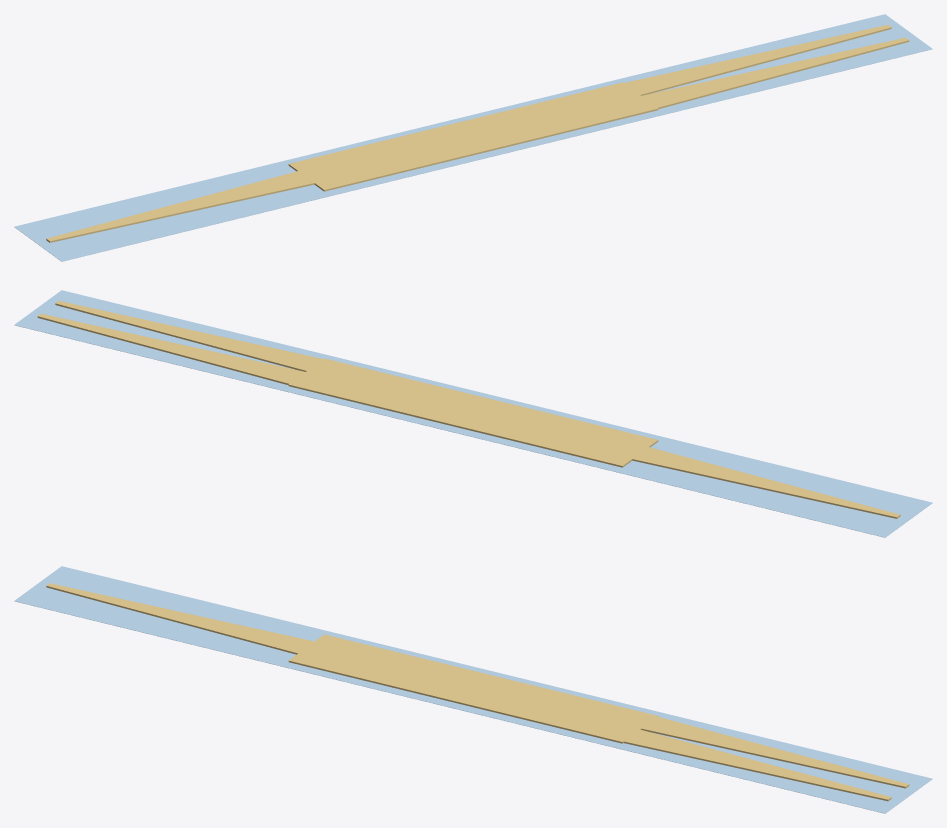
Rendered from cs-sin300-mmi1x2.glb.
3 renders of one model, top to bottom at view 1: azimuth 30°, elevation 25°; view 2: azimuth 150°, elevation 25°; view 3: azimuth 330°, elevation 25°, orthographic.
Parts seen in each view (by area): view 1: nitride_0, box_top; view 2: nitride_0, box_top; view 3: nitride_0, box_top.
Boxes of the visible parts, x1=… form: nitride_0: x1=46, y1=25, x2=909, y2=242; box_top: x1=14, y1=14, x2=932, y2=261; nitride_0: x1=37, y1=301, x2=900, y2=518; box_top: x1=14, y1=290, x2=932, y2=537; nitride_0: x1=46, y1=583, x2=909, y2=801; box_top: x1=14, y1=566, x2=932, y2=813.
Size of the model in its own units: 169 by 0.34 by 16.
